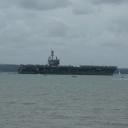Portanaves: (18, 50, 120, 77)
